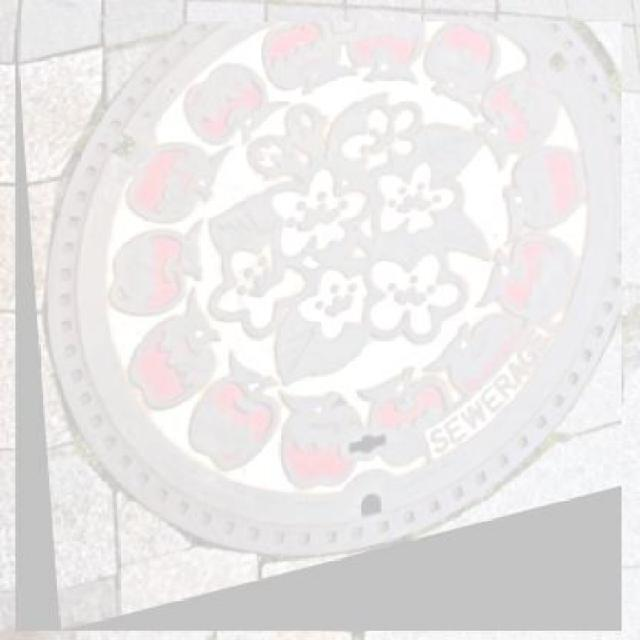Manhole: (16, 22, 622, 630)
